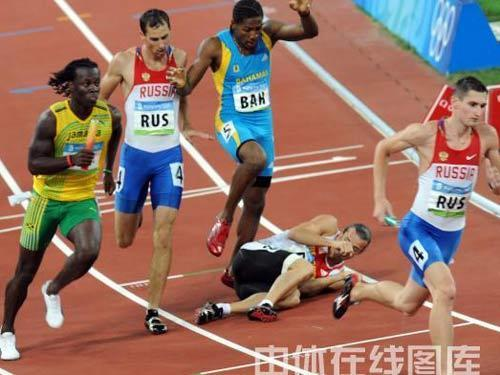down: (188, 212, 371, 323)
up: (351, 77, 500, 375), (1, 59, 119, 369), (176, 1, 303, 269), (100, 8, 196, 335)
